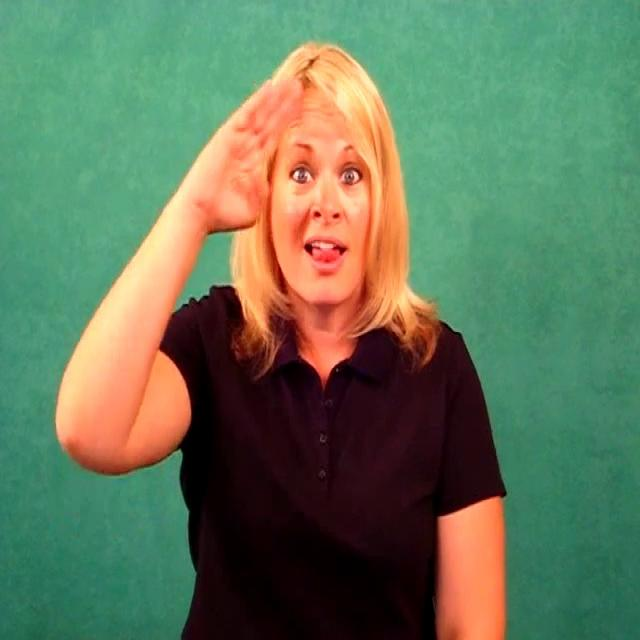hello: (199, 70, 386, 310)
